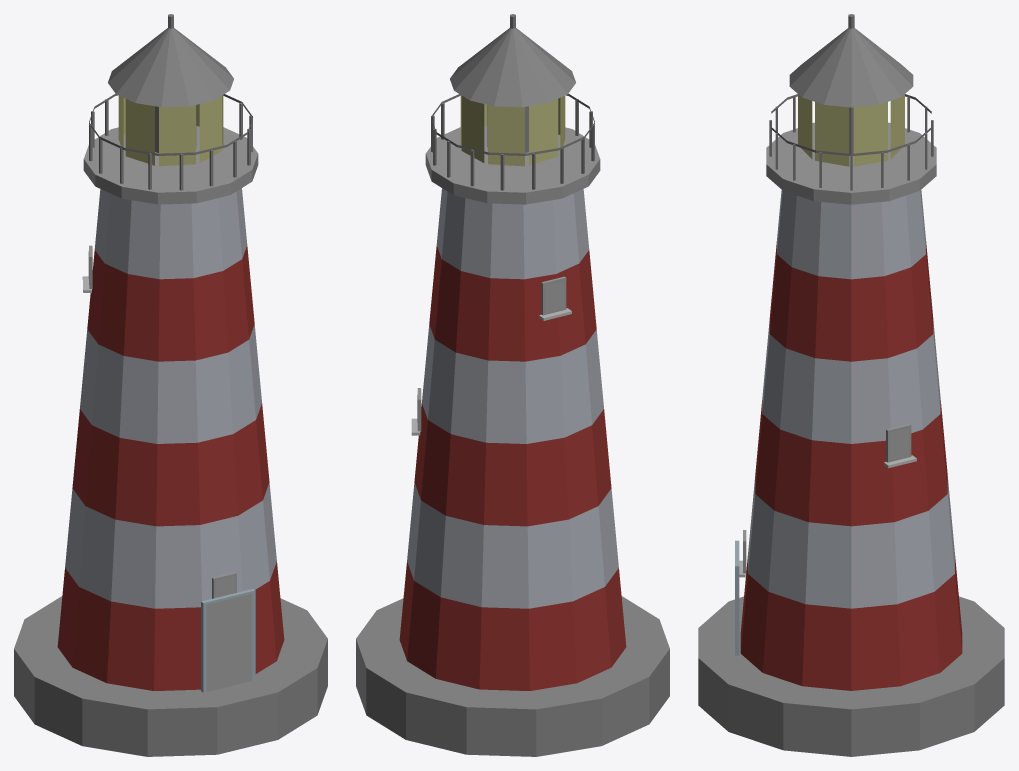
File: lighthouse.glb
The picture shows the model from 3 angles, left to right: view 1: azimuth 30°, elevation 25°; view 2: azimuth 150°, elevation 25°; view 3: azimuth 270°, elevation 25°; orthographic projection.
Parts seen in each view (by area): view 1: lighthouse; view 2: lighthouse; view 3: lighthouse.
Boxes of the visible parts, x1,y1,x2,y2 form: lighthouse: [14, 14, 327, 756]; lighthouse: [356, 14, 669, 756]; lighthouse: [698, 14, 1004, 756].
Bounding box in the file's own units: 7.2 × 17.05 × 7.02.
